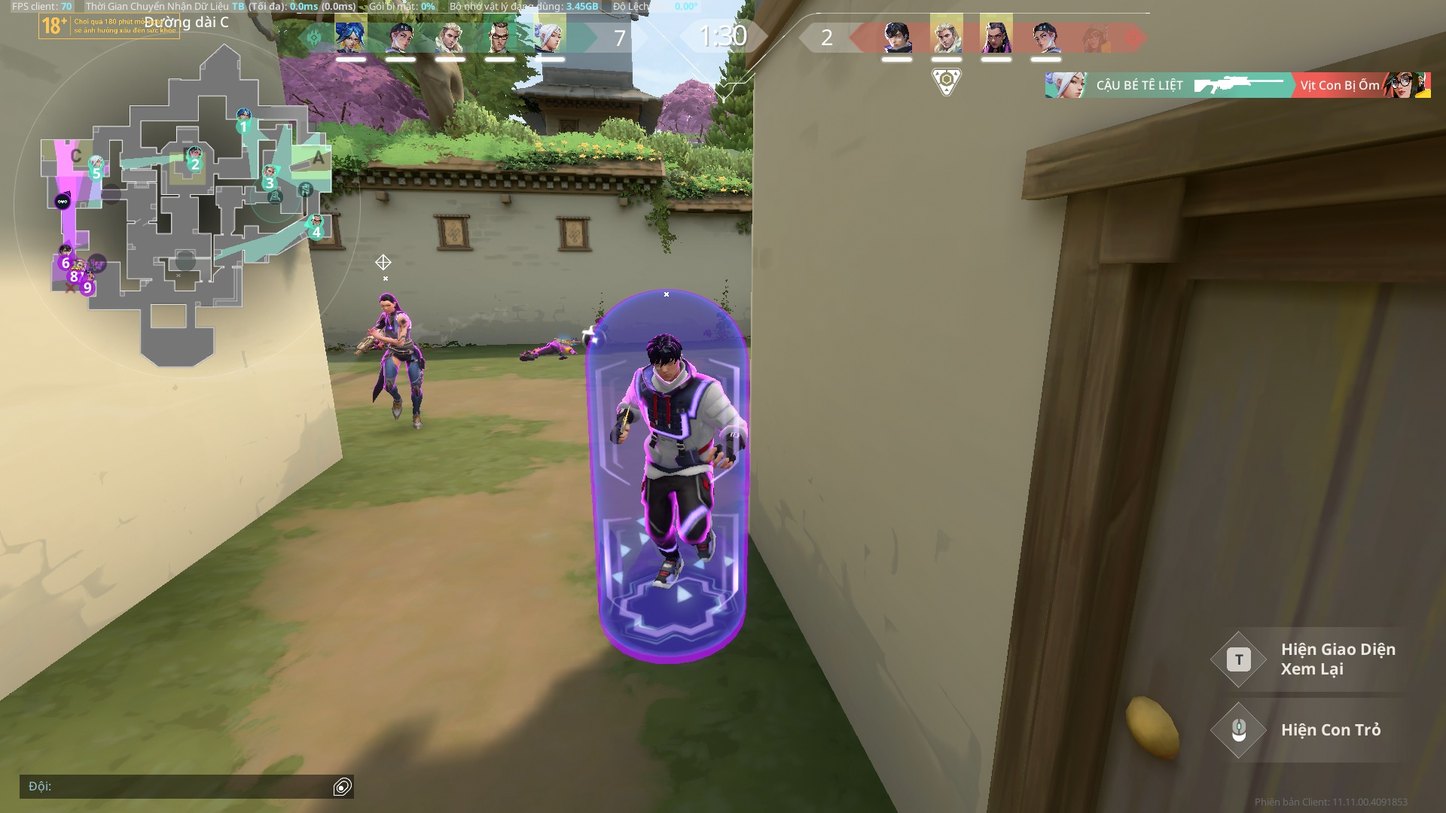body: (629, 361, 728, 456), (377, 309, 415, 345)
head: (644, 325, 690, 379), (378, 291, 398, 312)
